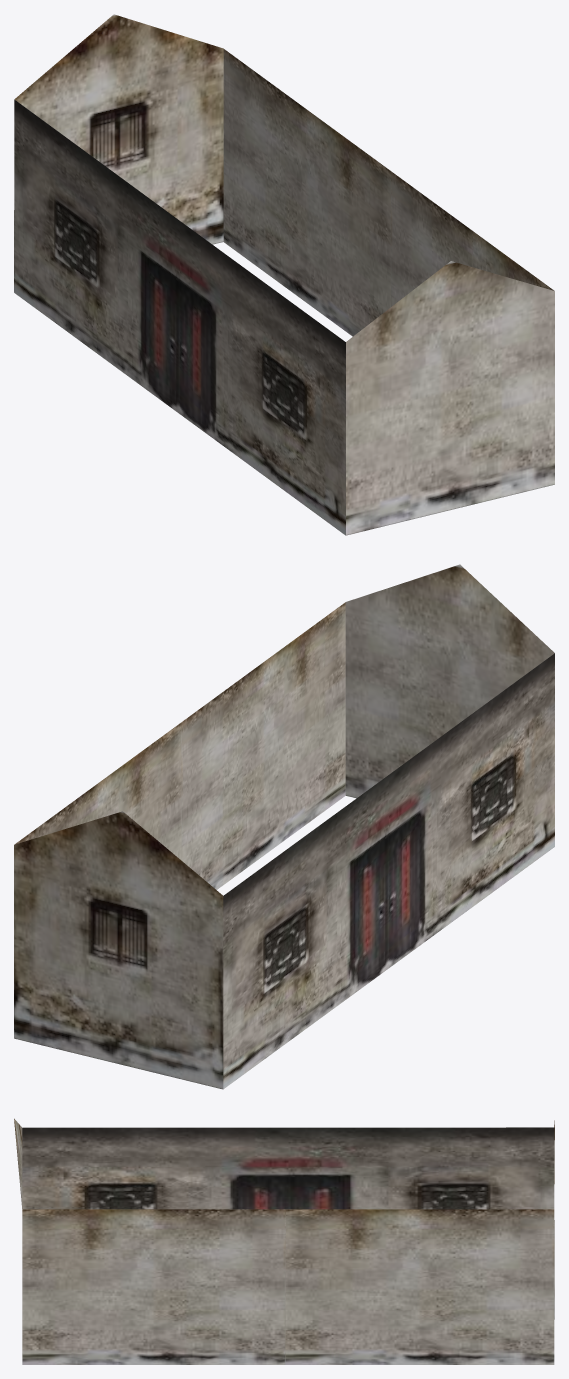
The model's file is fang04.obj.
The picture shows the model from 3 angles, top to bottom: view 1: azimuth 30°, elevation 25°; view 2: azimuth 150°, elevation 25°; view 3: azimuth 270°, elevation 25°; orthographic projection. The views are drawn at different scales.
Visible parts, largest first — view 1: fang04; view 2: fang04; view 3: fang04.
Part boxes in pixels (box(x1,y1,x2,y2)): fang04: box(14, 14, 554, 535); fang04: box(14, 564, 554, 1089); fang04: box(14, 1118, 554, 1364).
Size of the model in its own units: 82.6 by 95.82 by 230.
